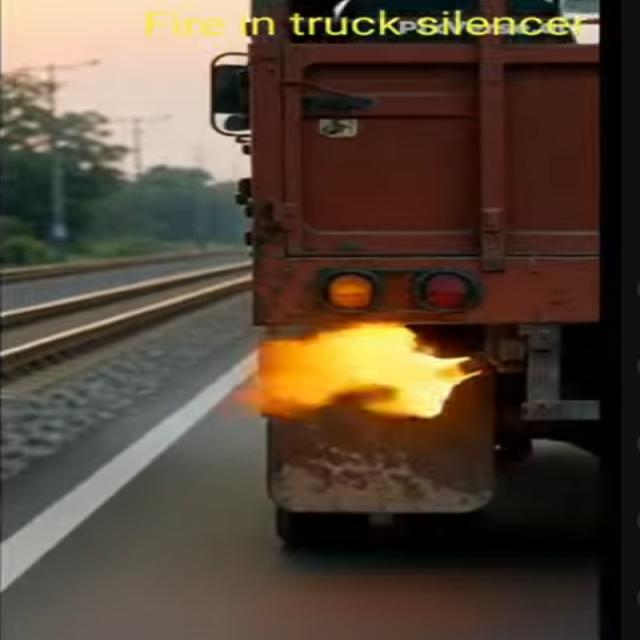fire: (240, 323, 480, 417)
